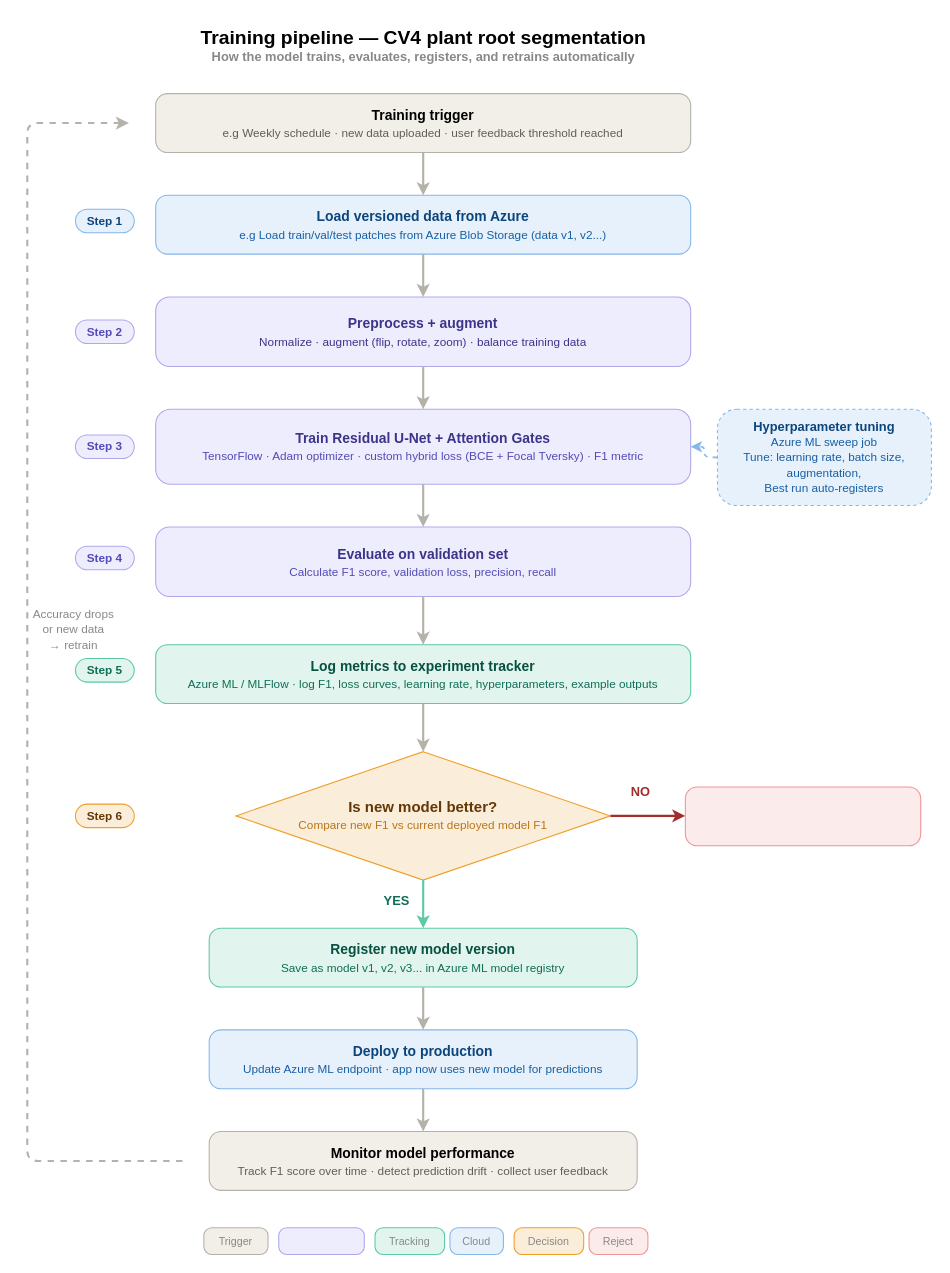
This 950x1273 diagram has some shape labels left out. The centre of each missing label's shape, as x and y in pixels:
"Keep current model Discard new model · current version stays deployed" belongs at (x=802, y=816).
"Processing" belongs at (x=321, y=1241).
